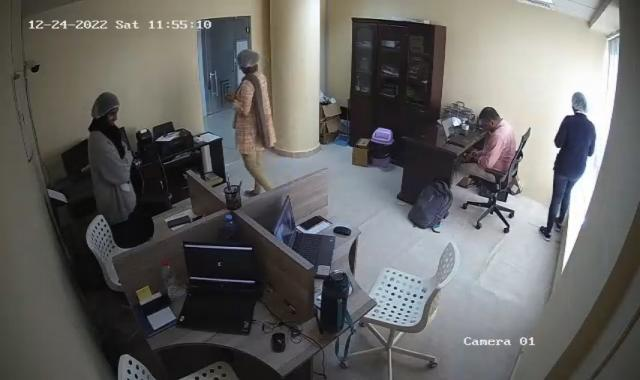hairnet: (91, 91, 118, 125), (237, 49, 262, 78), (570, 88, 590, 120)
no_hairnet: (477, 107, 502, 133)
